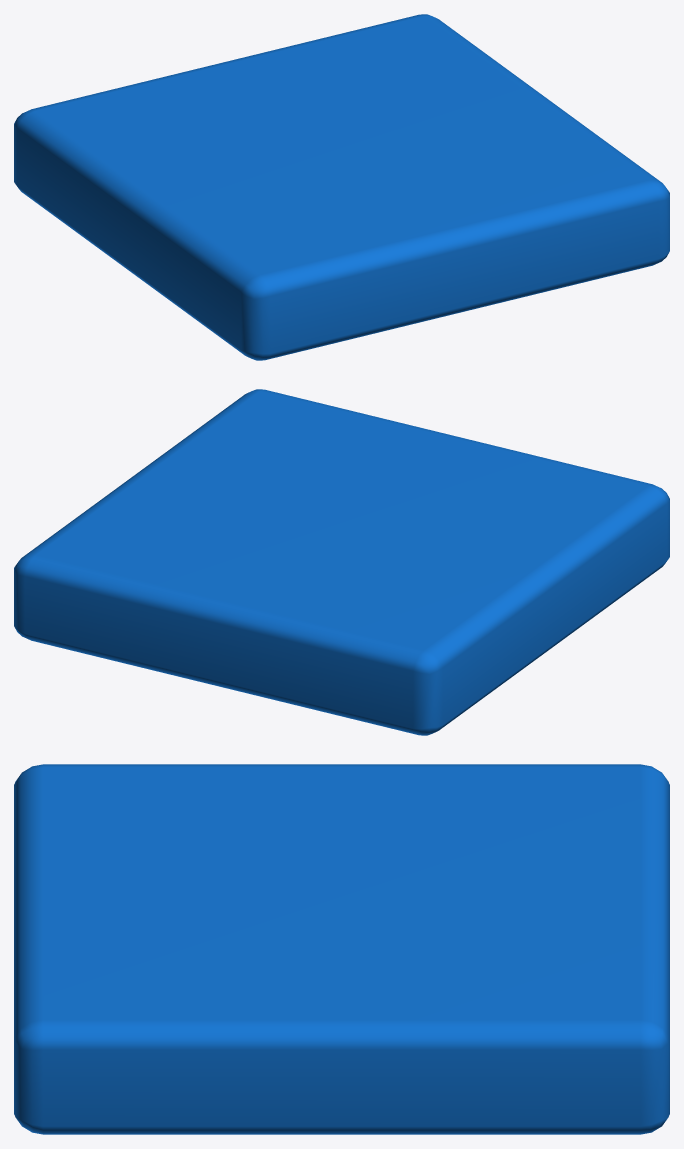
File: Blue_Box1.fbx
The picture shows the model from 3 angles, top to bottom: view 1: azimuth 30°, elevation 25°; view 2: azimuth 150°, elevation 25°; view 3: azimuth 270°, elevation 25°; orthographic projection. The views are drawn at different scales.
Visible parts, largest first — view 1: Blue_Box1; view 2: Blue_Box1; view 3: Blue_Box1.
Part boxes in pixels (x1,y1,x2,y2): Blue_Box1: (14,14,669,360); Blue_Box1: (14,389,669,735); Blue_Box1: (14,764,669,1134).
Bounding box in the file's own units: 124 × 23.27 × 124.
1 material, 1 textured.
